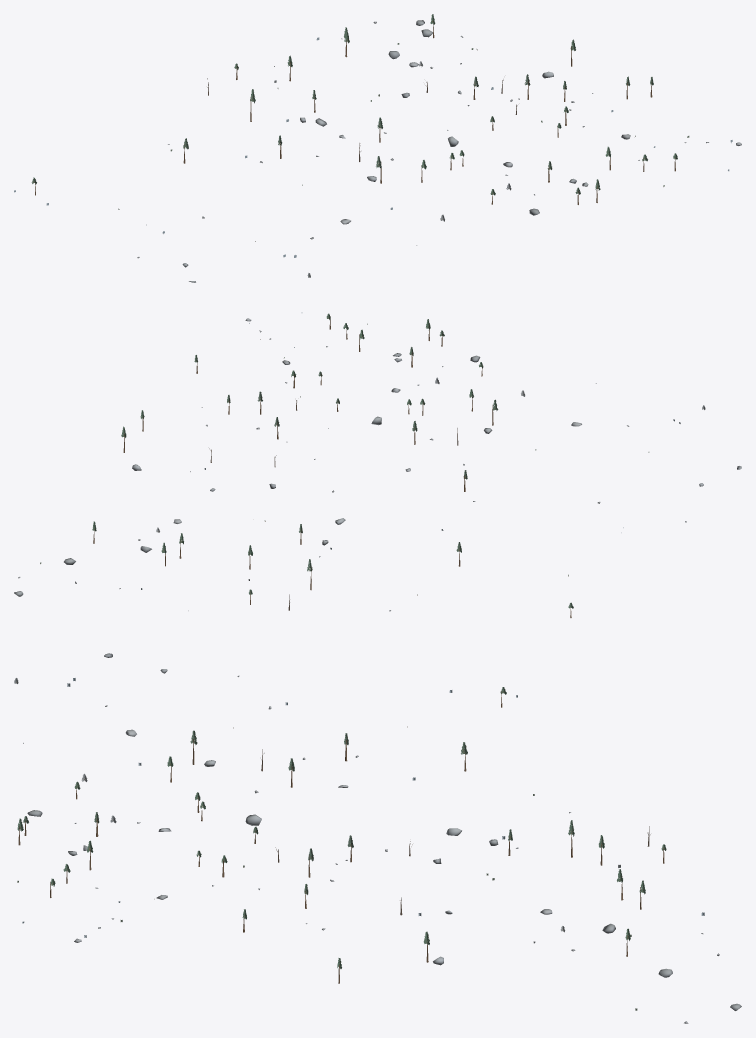
File: frost_land_scatter_c19_11_lod1.glb
3 views of the same model, one above another, from view 1: azimuth 30°, elevation 25°; view 2: azimuth 150°, elevation 25°; view 3: azimuth 270°, elevation 25° (orthographic). The views are drawn at different scales.
Visible parts, largest first — view 1: frost_land_scatter_c19_11_lod1; view 2: frost_land_scatter_c19_11_lod1; view 3: frost_land_scatter_c19_11_lod1.
Boxes of the visible parts, bbox=[...] form: frost_land_scatter_c19_11_lod1: bbox=[14, 14, 741, 282]; frost_land_scatter_c19_11_lod1: bbox=[14, 312, 741, 617]; frost_land_scatter_c19_11_lod1: bbox=[14, 653, 741, 1023].
Size of the model in its own units: 252 by 47.56 by 251.
